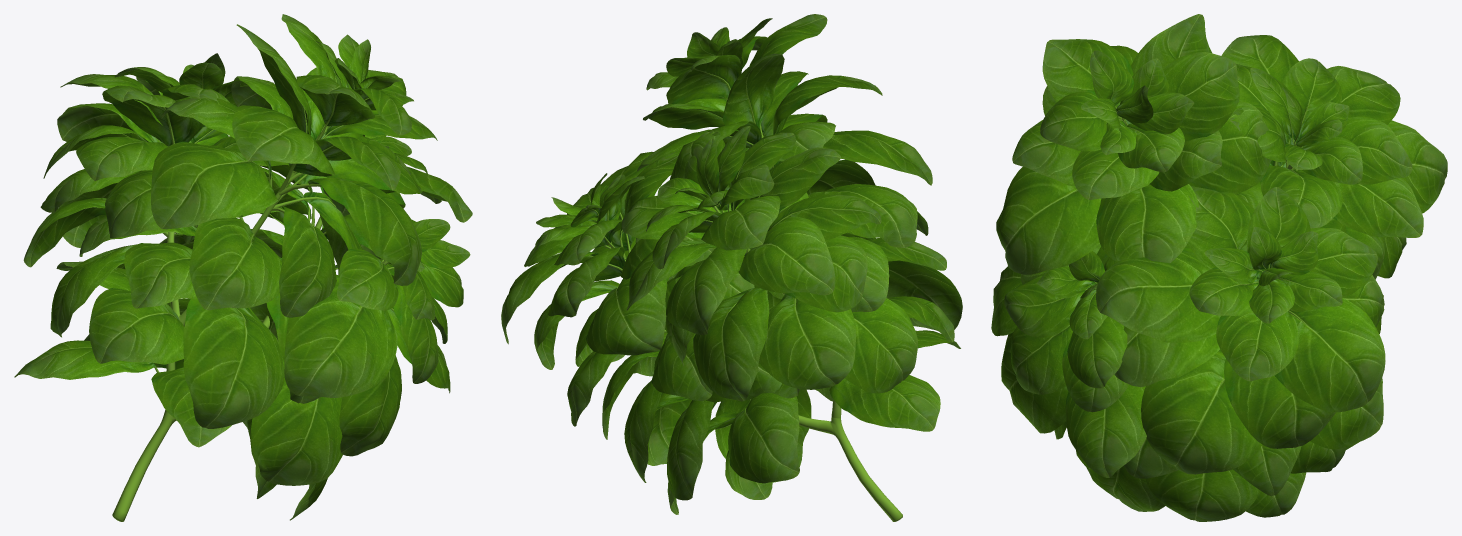
Rendered from Basil.glb.
3 views of the same model, side by side, from view 1: azimuth 30°, elevation 25°; view 2: azimuth 150°, elevation 25°; view 3: azimuth 270°, elevation 25° (orthographic). The views are drawn at different scales.
Parts seen in each view (by area): view 1: Object_2, Object_3, Object_4; view 2: Object_3, Object_4, Object_2; view 3: Object_2, Object_3, Object_4.
Part boxes in pixels (box(x1,y1,x2,y2)): Object_2: box(105, 24, 472, 520); Object_3: box(14, 34, 470, 498); Object_4: box(23, 14, 463, 521); Object_3: box(534, 18, 960, 514); Object_4: box(608, 36, 917, 521); Object_2: box(501, 14, 962, 482); Object_2: box(991, 14, 1385, 511); Object_3: box(1036, 35, 1447, 521); Object_4: box(1004, 52, 1423, 388).
Bounding box in the file's own units: 44.81 × 48.28 × 41.24.
Materials: 1 (1 with a texture image).
